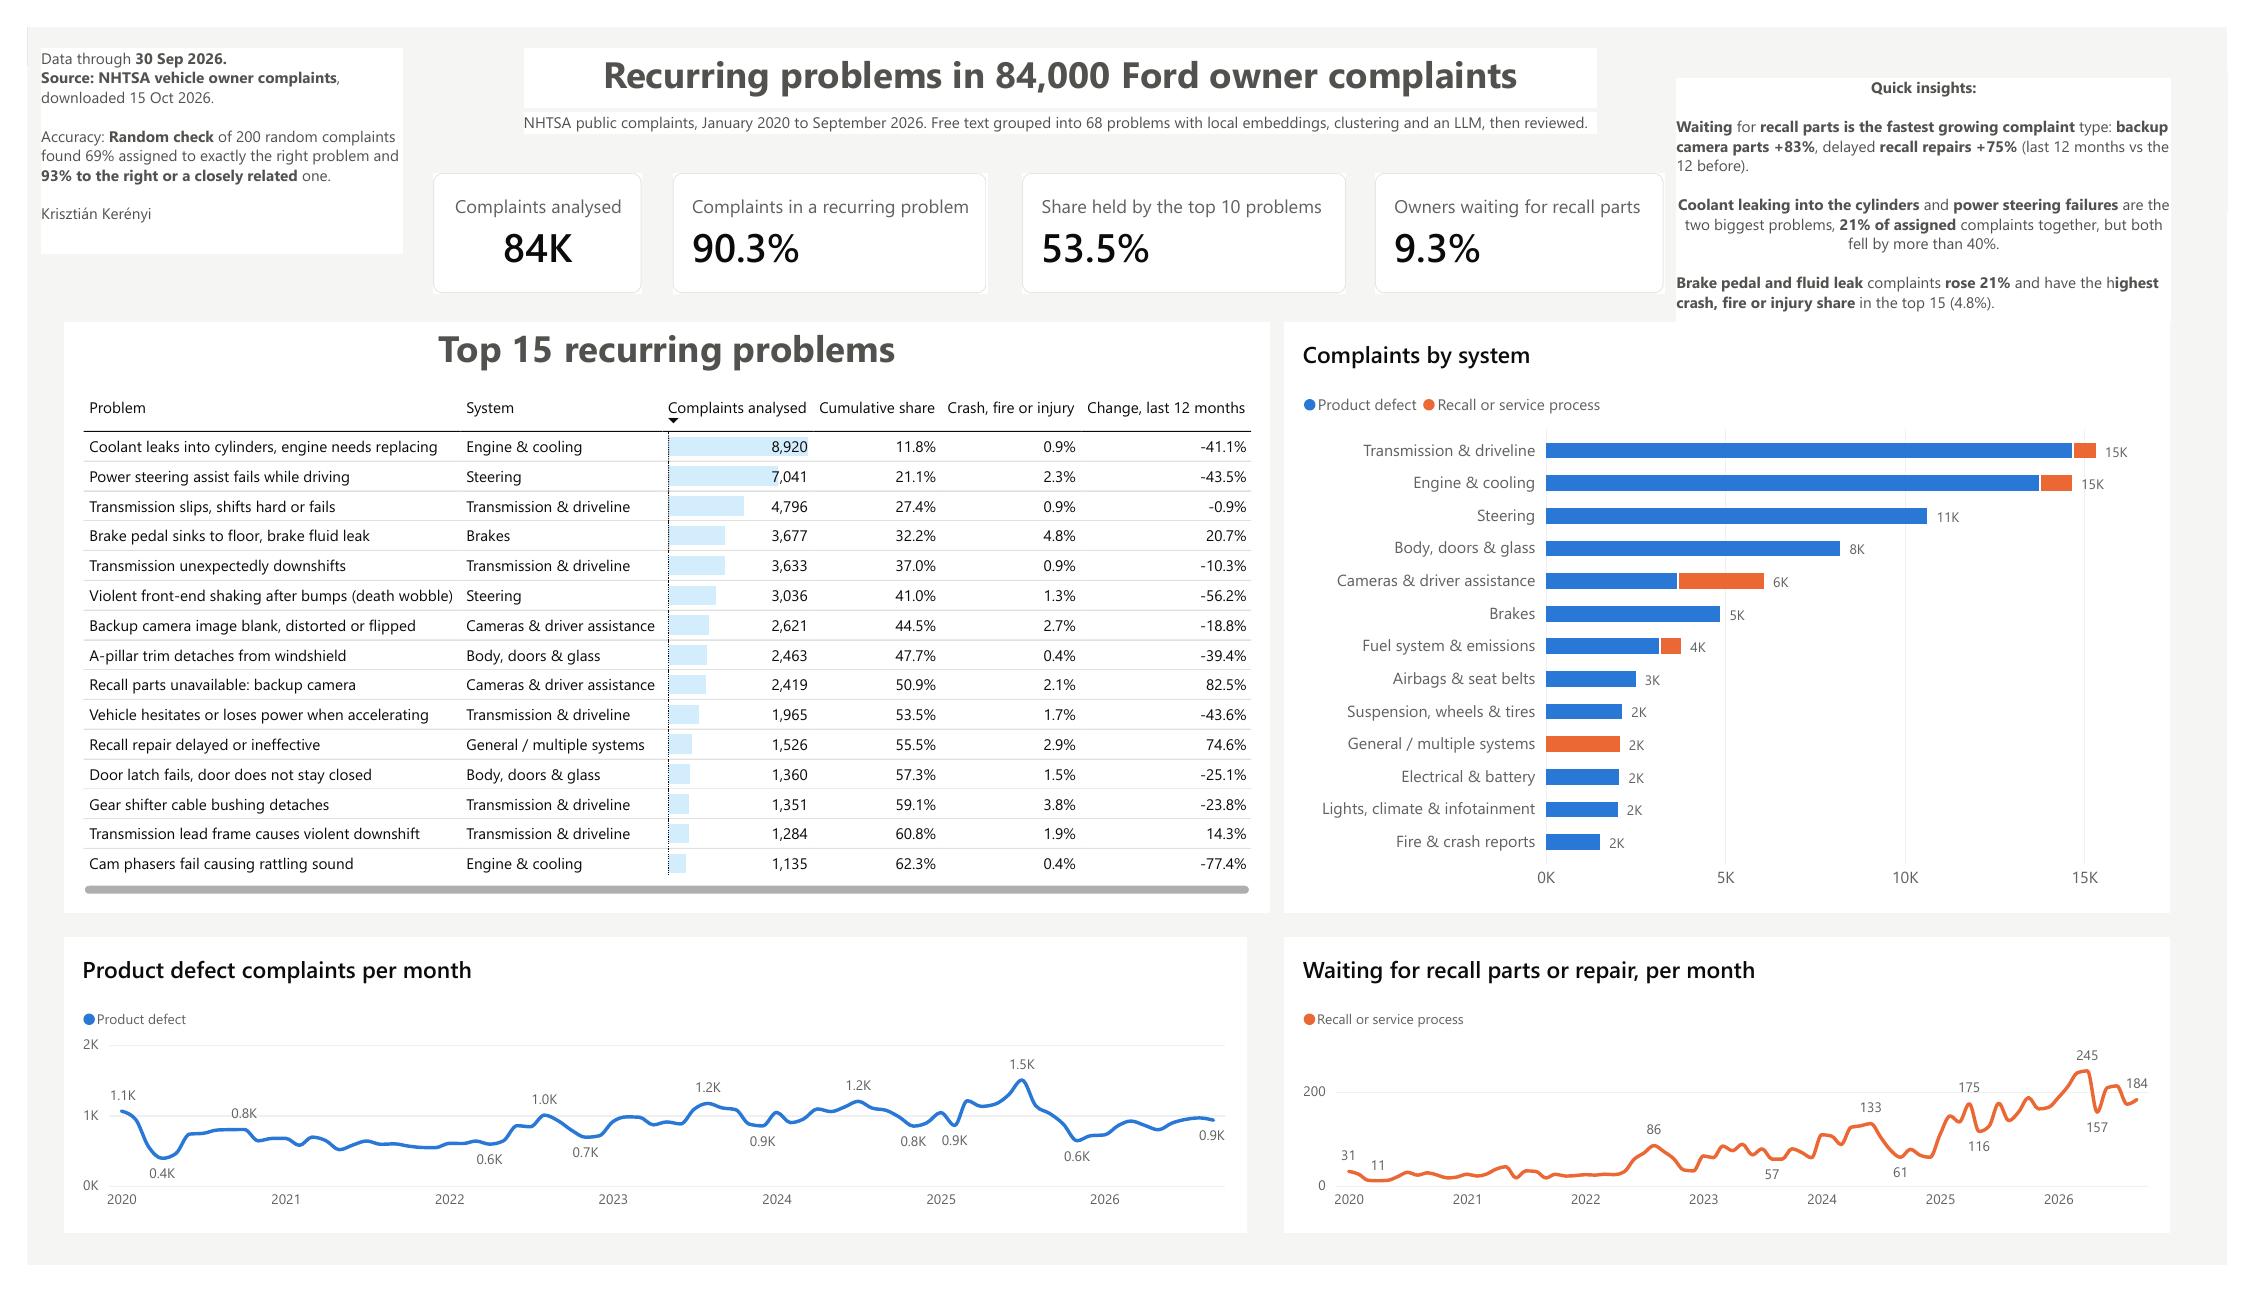

What the dashboard file says about the page in this screenshot:
{"tool":"powerbi","page":{"name":"Overview","canvas":[1920,1080],"ordinal":0},"visuals":[{"type":"cardVisual","fields":{"Data":["_Measures.Complaints"]},"box":[353.7,127.1,182.2,105.6],"z":0},{"type":"textbox","box":[433.3,17.5,936.7,52.5],"z":1000},{"type":"cardVisual","title":"Recurring problem %","fields":{"Data":["_Measures.Recurring problem coverage"]},"box":[563.4,127.1,274.1,105.6],"z":2000},{"type":"cardVisual","fields":{"Data":["_Measures.Top 10 problems share"]},"box":[868.1,127.1,283.3,105.6],"z":3000},{"type":"cardVisual","fields":{"Data":["_Measures.Recall parts delay share"]},"box":[1175.9,127.1,252.6,105.6],"z":4000},{"type":"tableEx","fields":{"Values":["dim_problem.problem","dim_problem.system","_Measures.Complaints","_Measures.Pareto cumulative %","_Measures.Severe share","_Measures.Change vs prior 12M"]},"box":[32.2,304.7,1051.9,468.5],"z":5000},{"type":"textbox","box":[32.2,257.2,1051.9,47.5],"z":6000},{"type":"barChart","title":"Complaints by system","fields":{"Category":["dim_problem.system"],"Series":["dim_problem.issue_type"],"Y":["_Measures.Complaints"]},"box":[1097.1,256.8,773.3,516.5],"z":7000},{"type":"lineChart","title":"Product defect complaints per month","fields":{"Category":["dim_date.month_start"],"Series":["dim_problem.issue_type"],"Y":["_Measures.Complaints"]},"box":[32.1,793.7,1031.5,258.2],"z":8000},{"type":"textbox","box":[1439.2,44.4,431.8,212.8],"z":9000},{"type":"lineChart","title":"Waiting for recall parts or repair, per month","fields":{"Category":["dim_date.month_start"],"Series":["dim_problem.issue_type"],"Y":["_Measures.Complaints"]},"box":[1097.1,793.7,773.3,258.2],"z":10000},{"type":"textbox","box":[11.7,17.5,316.6,180.9],"z":11000},{"type":"textbox","box":[433.3,74.4,936.7,19],"z":12000}]}

Visuals, with their boxes in screenshot pixels (x1, y1, x2, y2), scaled from the page's 1920x1080 canvas onto the 2255x1293 screenshot:
cardVisual - _Measures.Complaints: box(415, 152, 629, 279)
textbox: box(509, 21, 1609, 84)
"Recurring problem %" cardVisual: box(662, 152, 984, 279)
cardVisual - _Measures.Top 10 problems share: box(1020, 152, 1352, 279)
cardVisual - _Measures.Recall parts delay share: box(1381, 152, 1678, 279)
tableEx - dim_problem.problem x dim_problem.system: box(38, 365, 1273, 926)
textbox: box(38, 308, 1273, 365)
"Complaints by system" barChart: box(1289, 307, 2197, 926)
"Product defect complaints per month" lineChart: box(38, 950, 1249, 1259)
textbox: box(1690, 53, 2197, 308)
"Waiting for recall parts or repair, per month" lineChart: box(1289, 950, 2197, 1259)
textbox: box(14, 21, 386, 238)
textbox: box(509, 89, 1609, 112)
